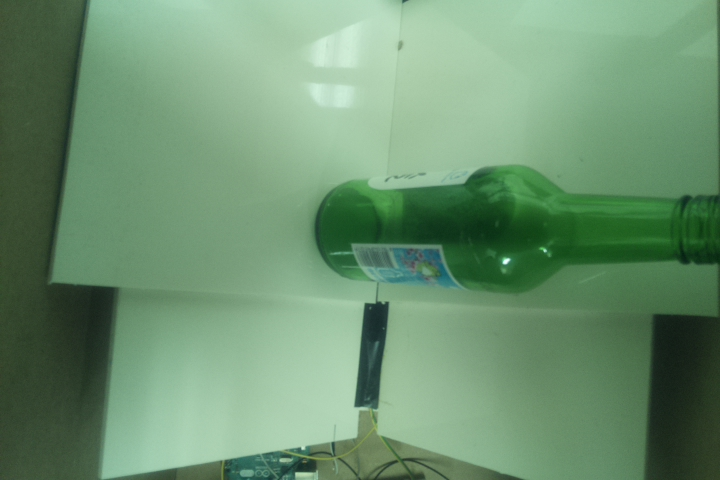soju: (308, 162, 720, 299)
